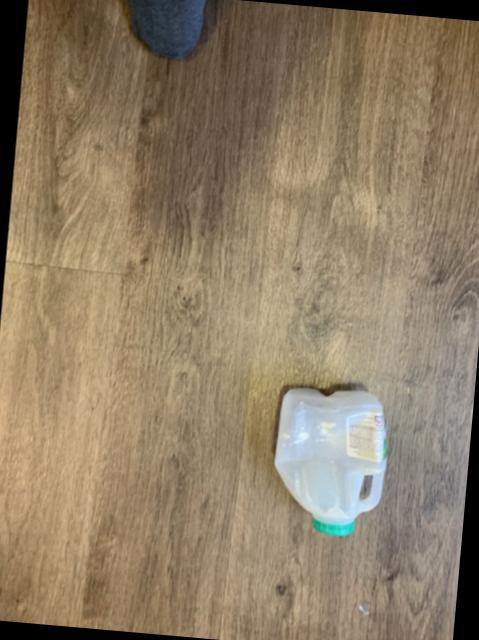plastic: (273, 388, 385, 536)
